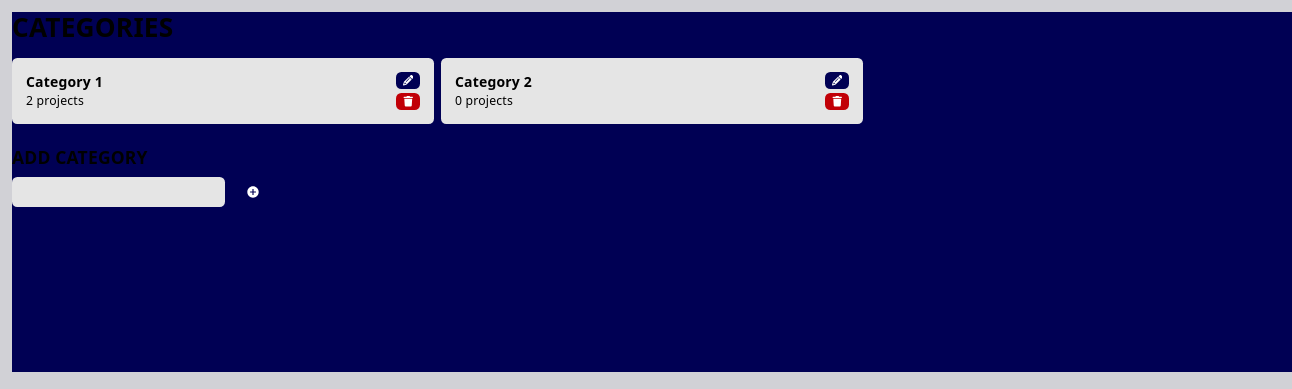
Test: CategoryEditor › deleting › deletes the category and reloads the list when confirmed
Click the 1st button named "delete category" at (408, 101), box 396,92 -> 420,110
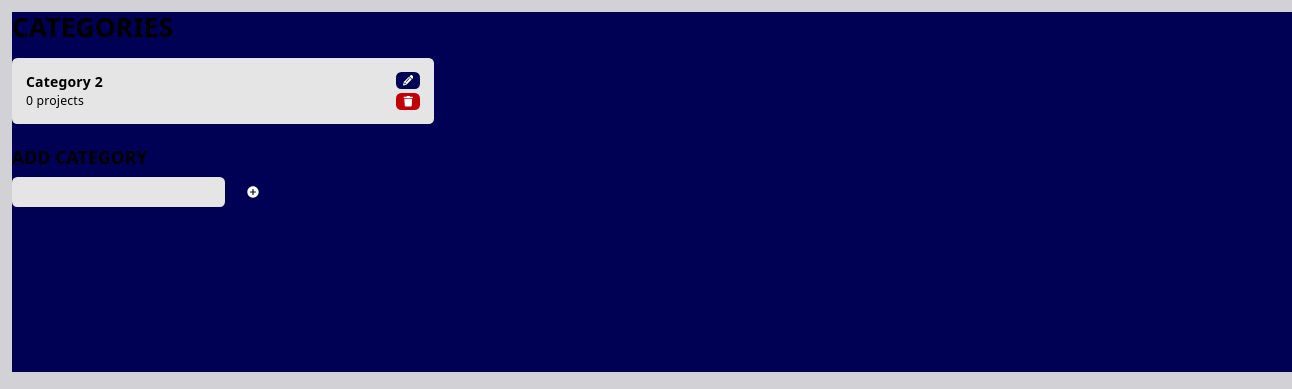
Check: the text "Category 1" is gone
